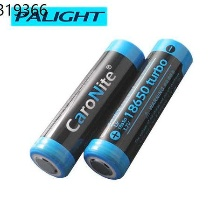battery: (25, 36, 147, 181), (81, 32, 195, 182)
